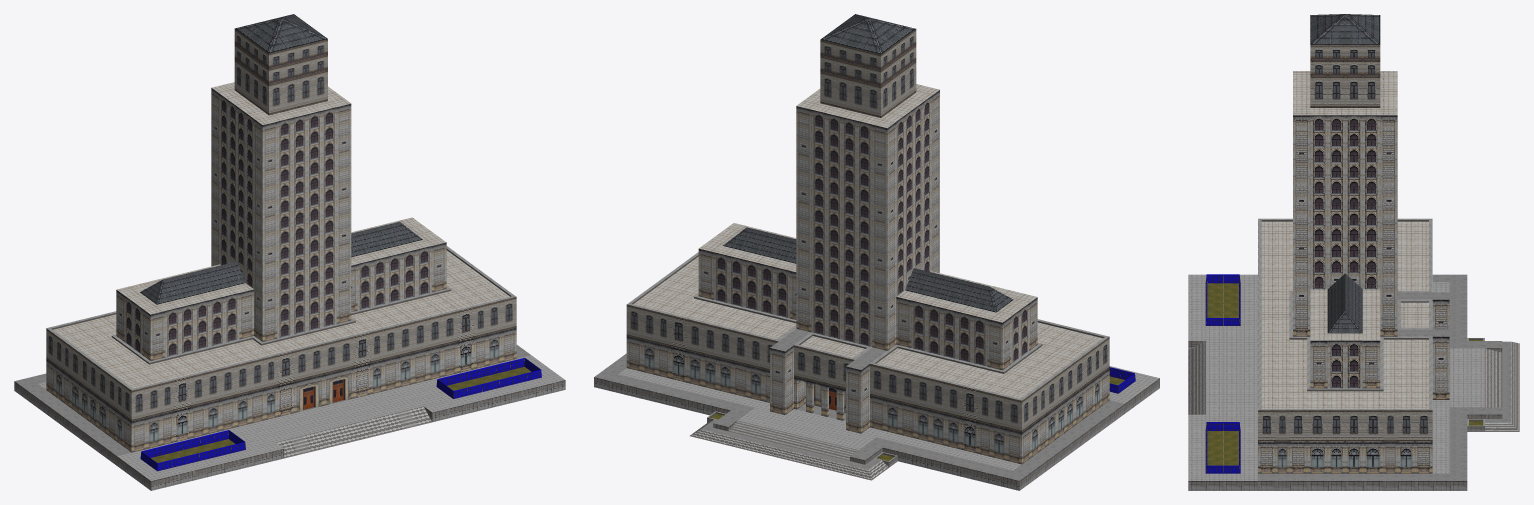
File: building_02_smooth.glb
3 views of the same model, side by side, from view 1: azimuth 30°, elevation 25°; view 2: azimuth 150°, elevation 25°; view 3: azimuth 270°, elevation 25° (orthographic). The views are drawn at different scales.
Visible parts, largest first — view 1: building_02_smooth2; view 2: building_02_smooth2; view 3: building_02_smooth2.
Boxes of the visible parts, x1,y1,x2,y2 form: building_02_smooth2: [14, 14, 565, 490]; building_02_smooth2: [594, 14, 1159, 490]; building_02_smooth2: [1188, 14, 1519, 490].
Bounding box in the file's own units: 140 × 118 × 95.
Materials: 1 (1 with a texture image).
